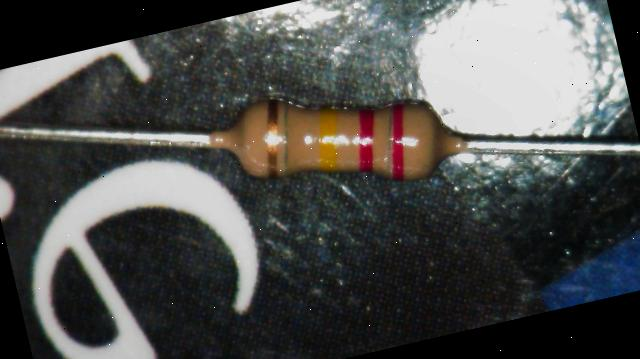gold: (256, 98, 289, 179)
red: (382, 106, 412, 176), (354, 106, 382, 172)
resistor: (208, 79, 464, 189)
yellow: (313, 105, 342, 171)
